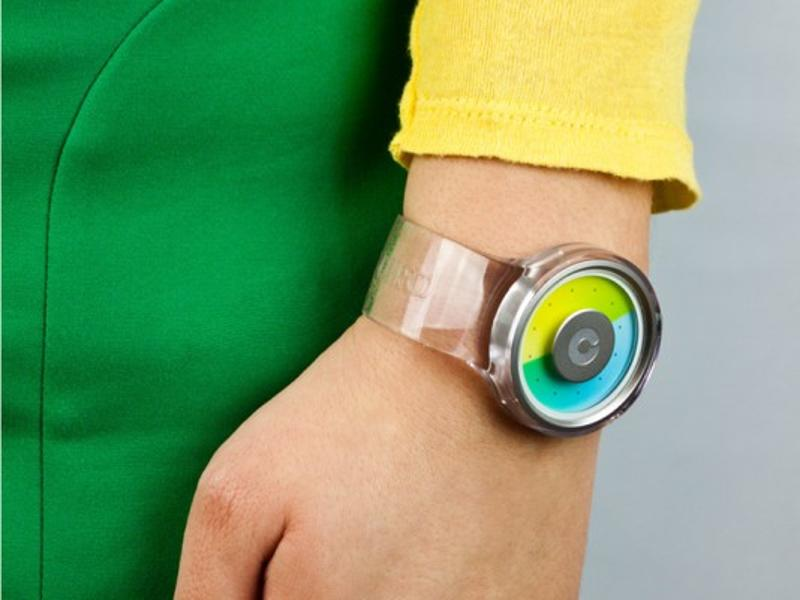watch: (356, 214, 665, 445)
